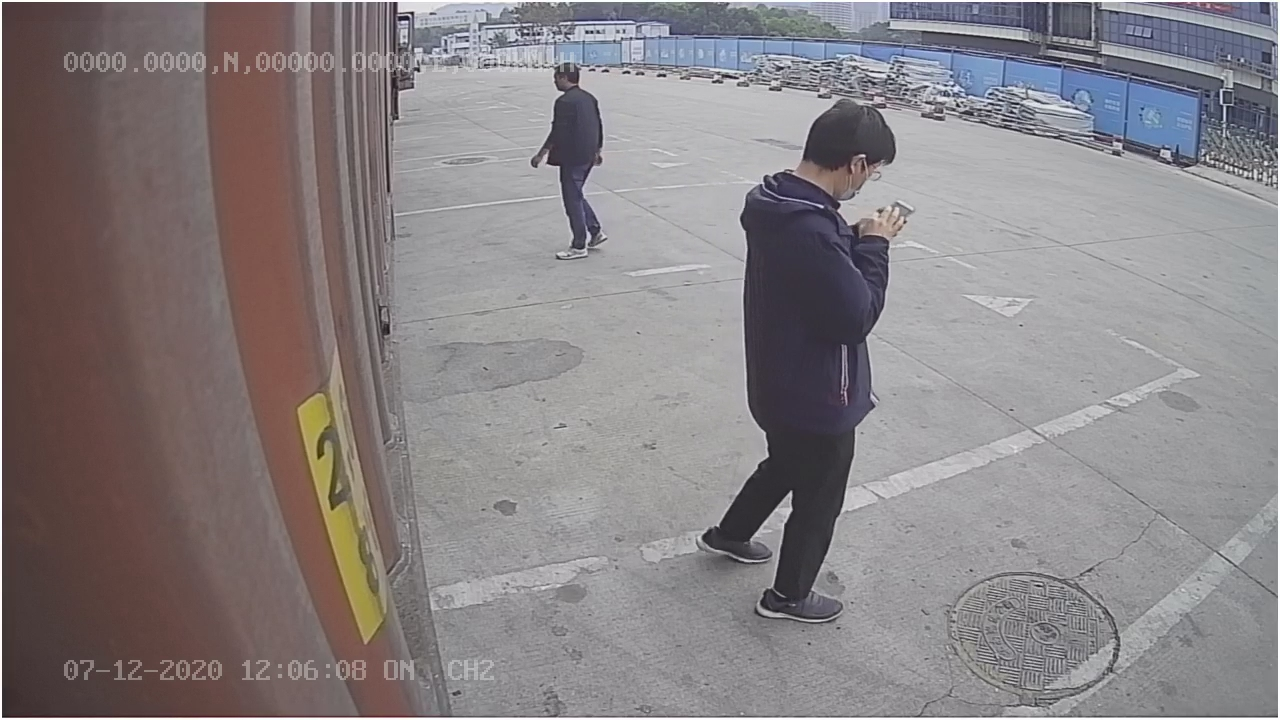person: (694, 80, 900, 623)
